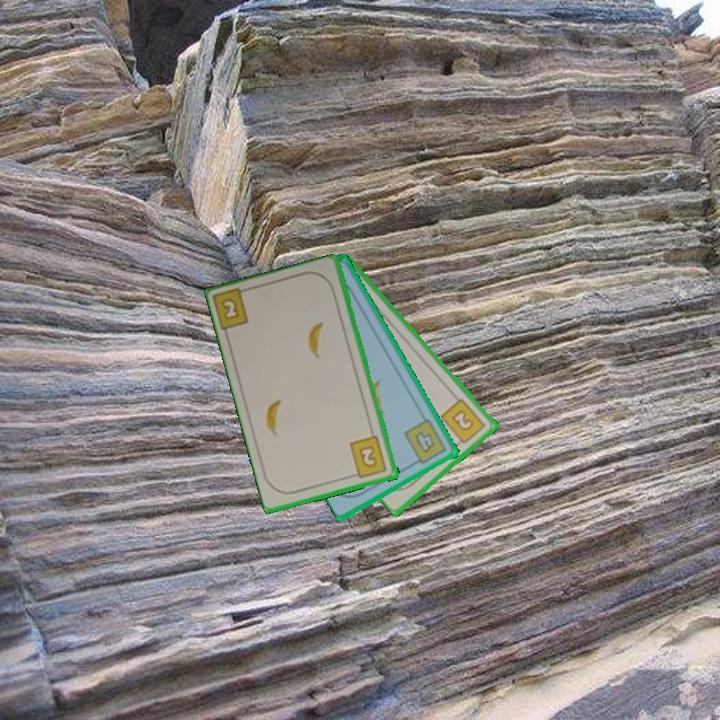2b: (438, 395, 489, 449), (211, 284, 255, 334), (346, 433, 390, 481)
4b: (401, 416, 450, 468)
